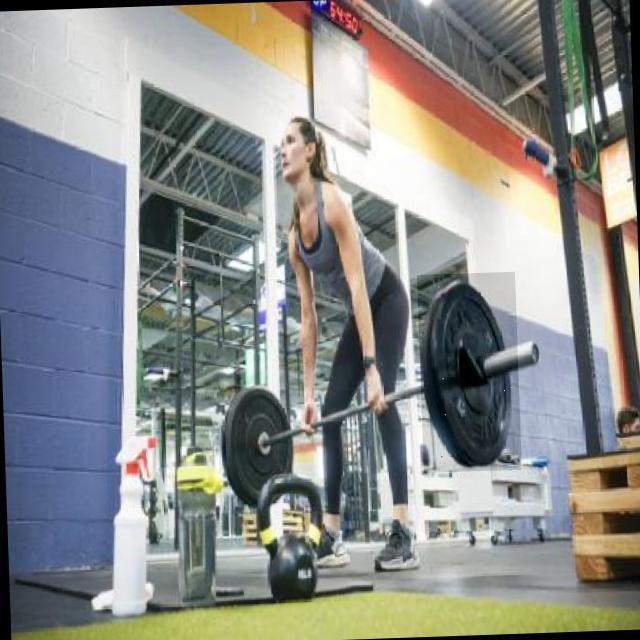barbell: (418, 273, 523, 474)
